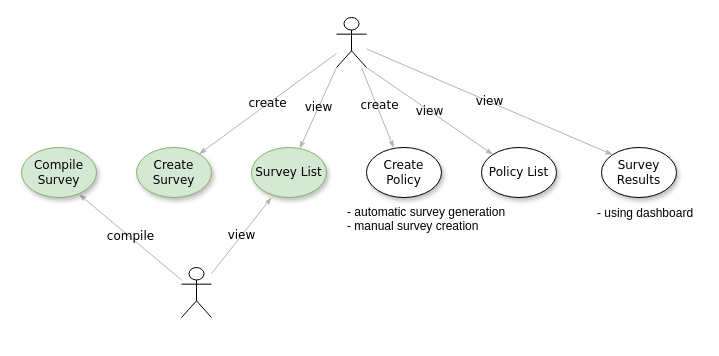
Some shapes in this 719 by 356 pixel diagram are drawn without their labels. The centre of each missing label's shape, as x and y in pixels:
Normal User: [196,292]
Policy Maker: [351,42]
